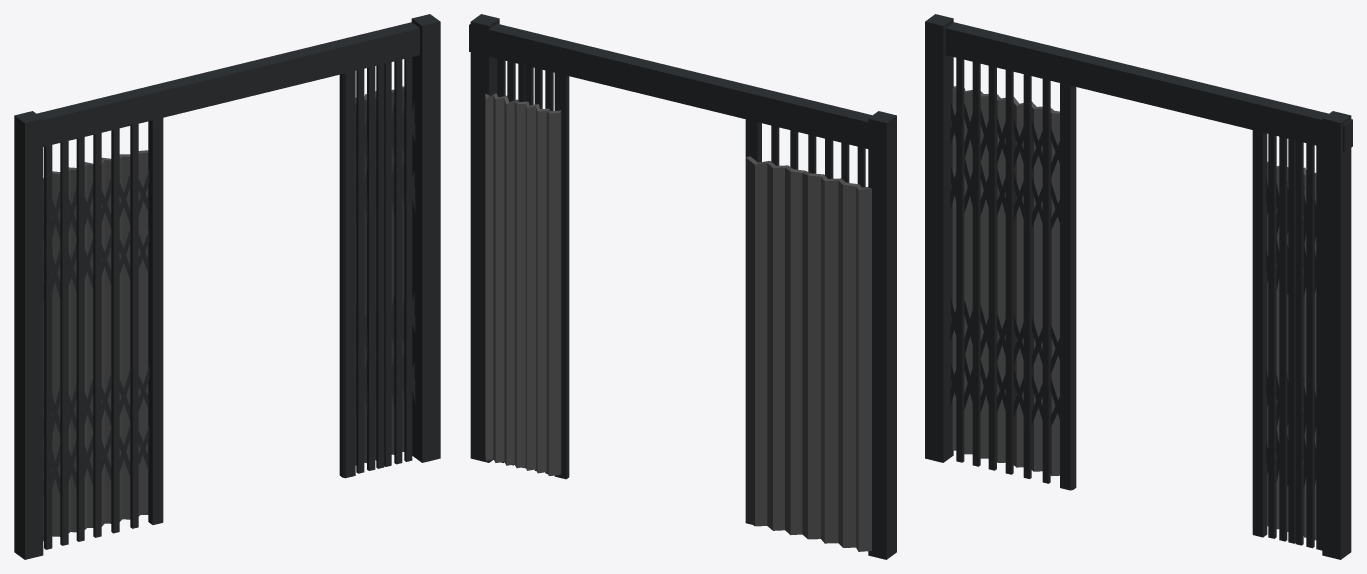
File: SM_Bld_Door_Cage_02.glb
3 renders of one model, left to right at view 1: azimuth 30°, elevation 25°; view 2: azimuth 150°, elevation 25°; view 3: azimuth 330°, elevation 25°, orthographic.
Parts seen in each view (by area): view 1: SM_Bld_Door_Cage_02; view 2: SM_Bld_Door_Cage_02; view 3: SM_Bld_Door_Cage_02.
Boxes of the visible parts, left/top/right/bottom form: SM_Bld_Door_Cage_02: left=14, top=14, right=440, bottom=559; SM_Bld_Door_Cage_02: left=469, top=14, right=896, bottom=559; SM_Bld_Door_Cage_02: left=925, top=14, right=1352, bottom=559.
Size of the model in its own units: 2.74 by 2.74 by 0.1683.
Materials: 1 (1 with a texture image).
